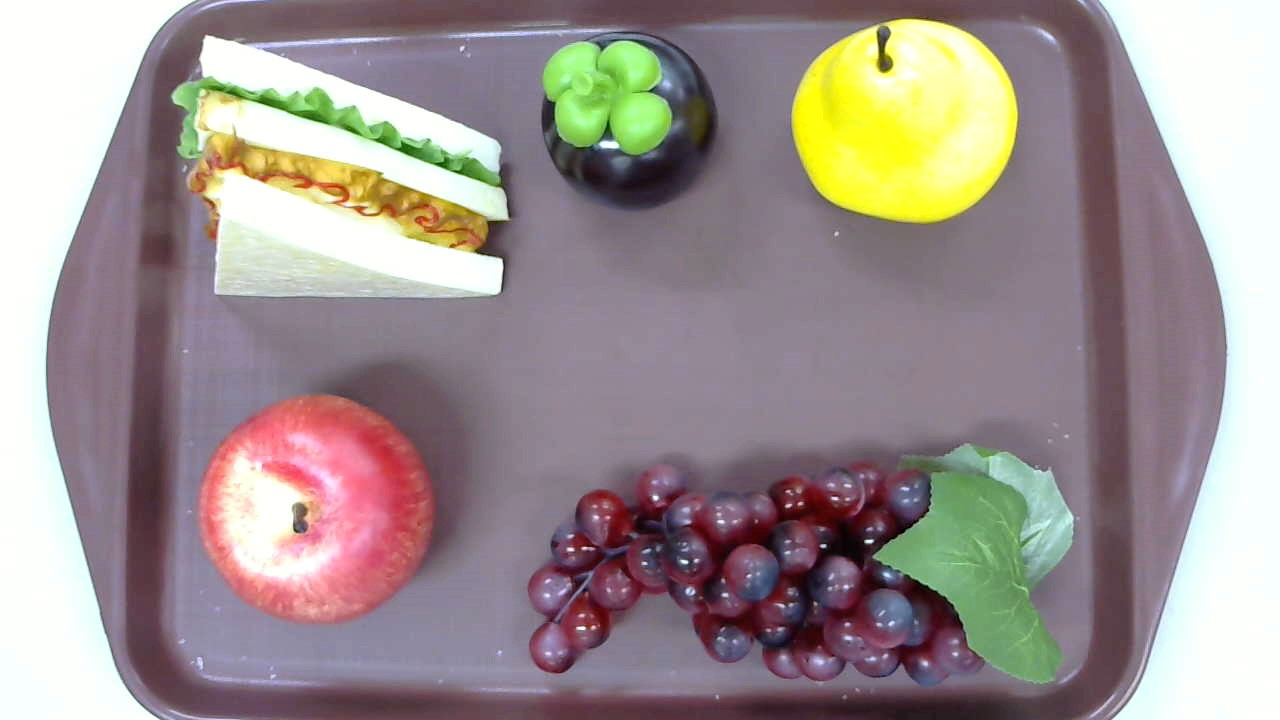grape: (528, 443, 1074, 691)
mangosteen: (542, 31, 717, 211)
red apple: (198, 394, 433, 627)
sandwich: (170, 34, 511, 299)
yellow pear: (791, 19, 1018, 224)
